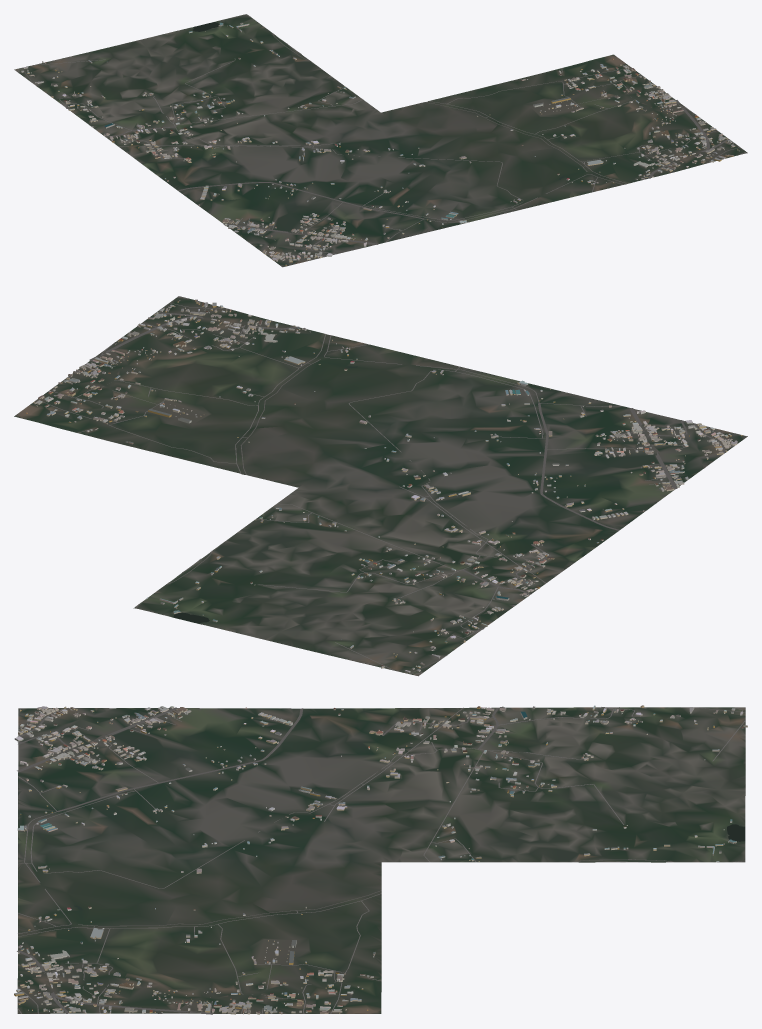
3 renders of one model, top to bottom at view 1: azimuth 30°, elevation 25°; view 2: azimuth 150°, elevation 25°; view 3: azimuth 270°, elevation 25°, orthographic. The views are drawn at different scales.
Visible parts, largest first — view 1: ground, buildings, roads; view 2: ground, buildings, roads; view 3: ground, buildings, roads.
Part boxes in pixels (box(x1,y1,x2,y2)): ground: box(14, 14, 747, 267); buildings: box(21, 21, 739, 265); roads: box(18, 14, 745, 259); ground: box(14, 296, 747, 676); buildings: box(26, 299, 742, 672); roads: box(37, 297, 734, 674); ground: box(17, 707, 745, 1013); buildings: box(14, 705, 747, 1014); roads: box(17, 707, 745, 1014).
Size of the model in its own units: 2813 by 22.6 by 2827.
